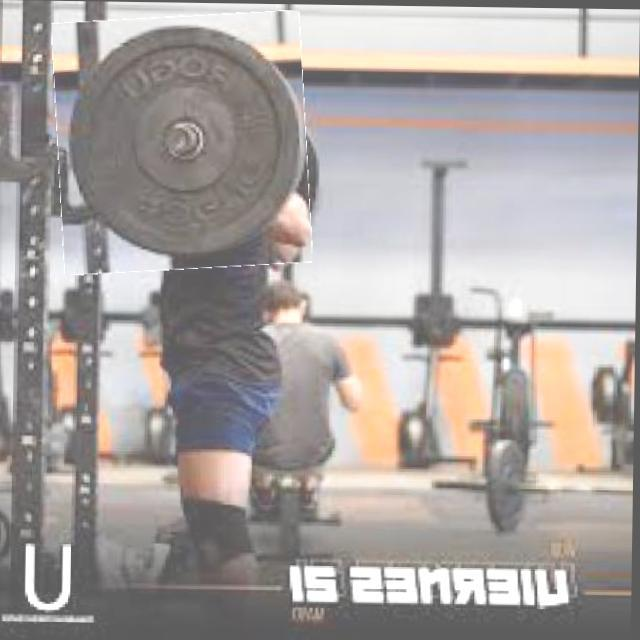barbell: (54, 12, 313, 274)
